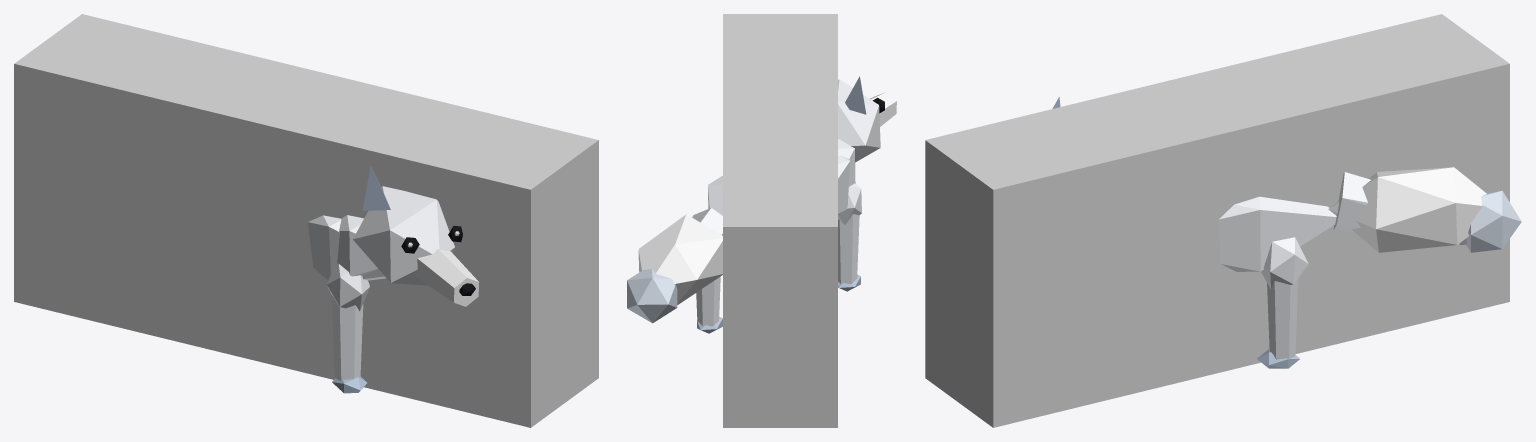
The model's file is tundra_arctic_fox.fbx.
The picture shows the model from 3 angles, left to right: view 1: azimuth 30°, elevation 25°; view 2: azimuth 150°, elevation 25°; view 3: azimuth 270°, elevation 25°; orthographic projection. The views are drawn at different scales.
Parts seen in each view (by area): view 1: Root__0.02_1.50_0.42__1.55_3.00_6.81, Head__Body__0.00_1.90_-0.91, LegFR__Body__0.47_1.26_-1.01, Body__Root__0.00_1.67_0.00; view 2: Root__0.02_1.50_0.42__1.55_3.00_6.81, Tail__Body__0.00_1.89_1.74, Head__Body__0.00_1.90_-0.91, LegFR__Body__0.47_1.26_-1.01, Body__Root__0.00_1.67_0.00, LegBL__Body__-0.47_1.26_1.10; view 3: Root__0.02_1.50_0.42__1.55_3.00_6.81, Tail__Body__0.00_1.89_1.74, Body__Root__0.00_1.67_0.00, LegBL__Body__-0.47_1.26_1.10.
Part boxes in pixels (x1,y1,x2,y2): Root__0.02_1.50_0.42__1.55_3.00_6.81: (14,14,598,427); Head__Body__0.00_1.90_-0.91: (353,165,479,306); LegFR__Body__0.47_1.26_-1.01: (326,263,369,393); Body__Root__0.00_1.67_0.00: (308,215,386,280); Root__0.02_1.50_0.42__1.55_3.00_6.81: (723,14,837,427); Tail__Body__0.00_1.89_1.74: (627,208,722,323); Head__Body__0.00_1.90_-0.91: (838,76,896,162); LegFR__Body__0.47_1.26_-1.01: (838,183,861,291); Body__Root__0.00_1.67_0.00: (708,139,855,215); LegBL__Body__-0.47_1.26_1.10: (696,276,722,333); Root__0.02_1.50_0.42__1.55_3.00_6.81: (925,14,1509,427); Tail__Body__0.00_1.89_1.74: (1328,167,1521,252); Body__Root__0.00_1.67_0.00: (1218,196,1336,271); LegBL__Body__-0.47_1.26_1.10: (1257,237,1308,368).
Bounding box in the file's own units: 133 × 84.23 × 191.
Materials: 1 (1 with a texture image).
